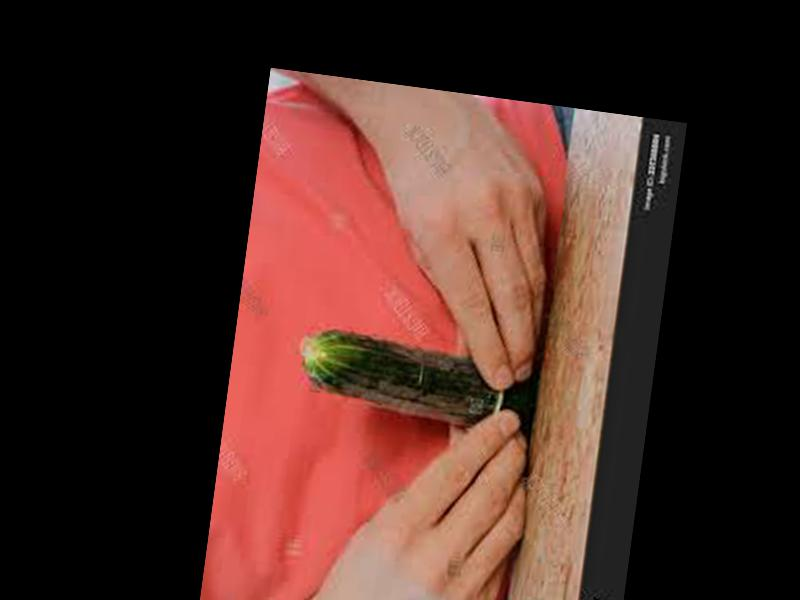Cucumber: (295, 324, 539, 433)
